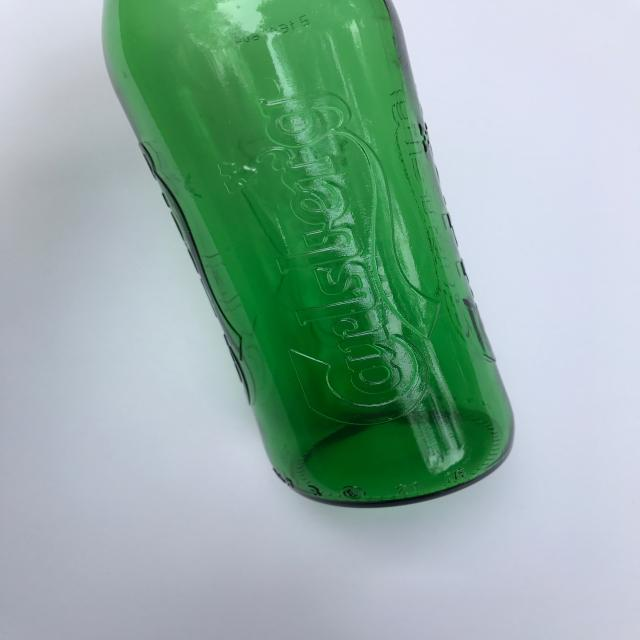glass: (100, 0, 516, 508)
